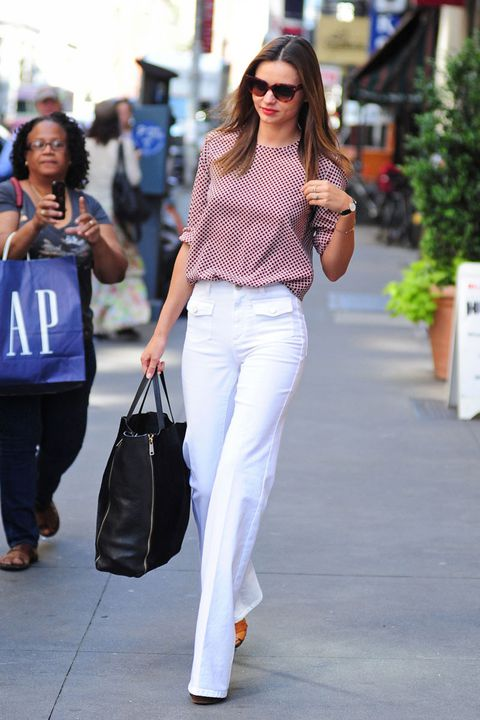sunglasses: (240, 75, 303, 106), (27, 138, 68, 152)
